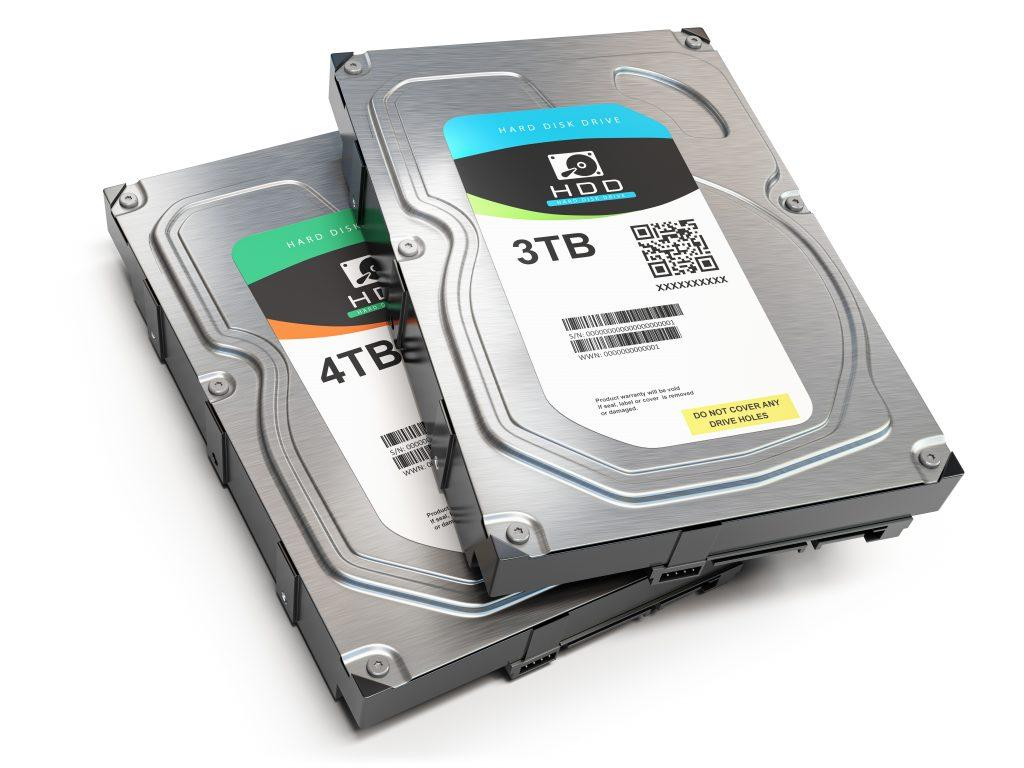internal HDD: (327, 28, 963, 603)
